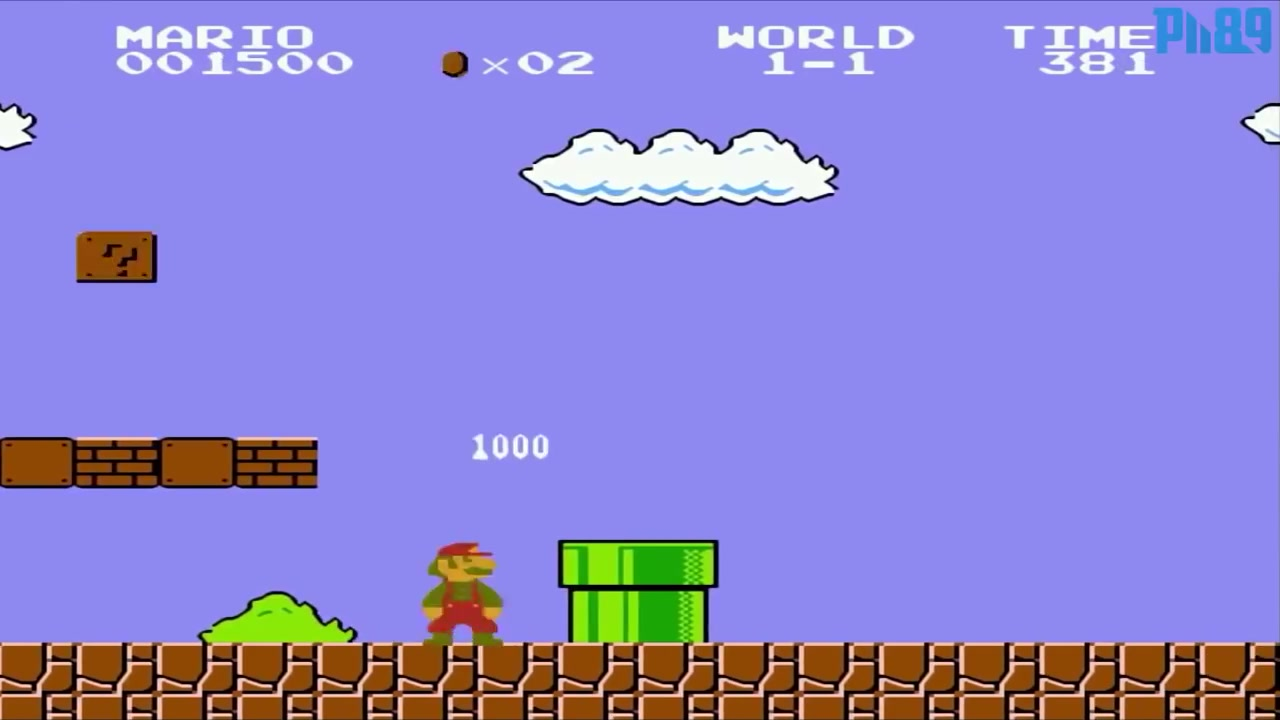mario: (407, 532, 513, 654)
